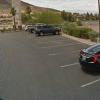Car: (70, 39, 100, 83)
